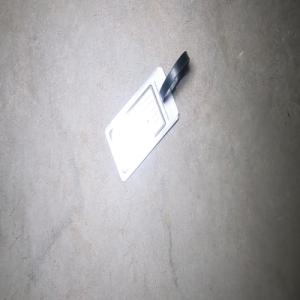LuggageTag: (103, 49, 190, 183)
